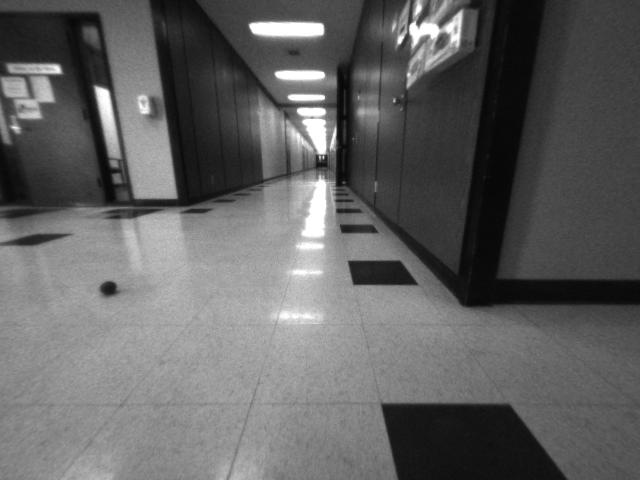dogtoy: (91, 274, 131, 300)
